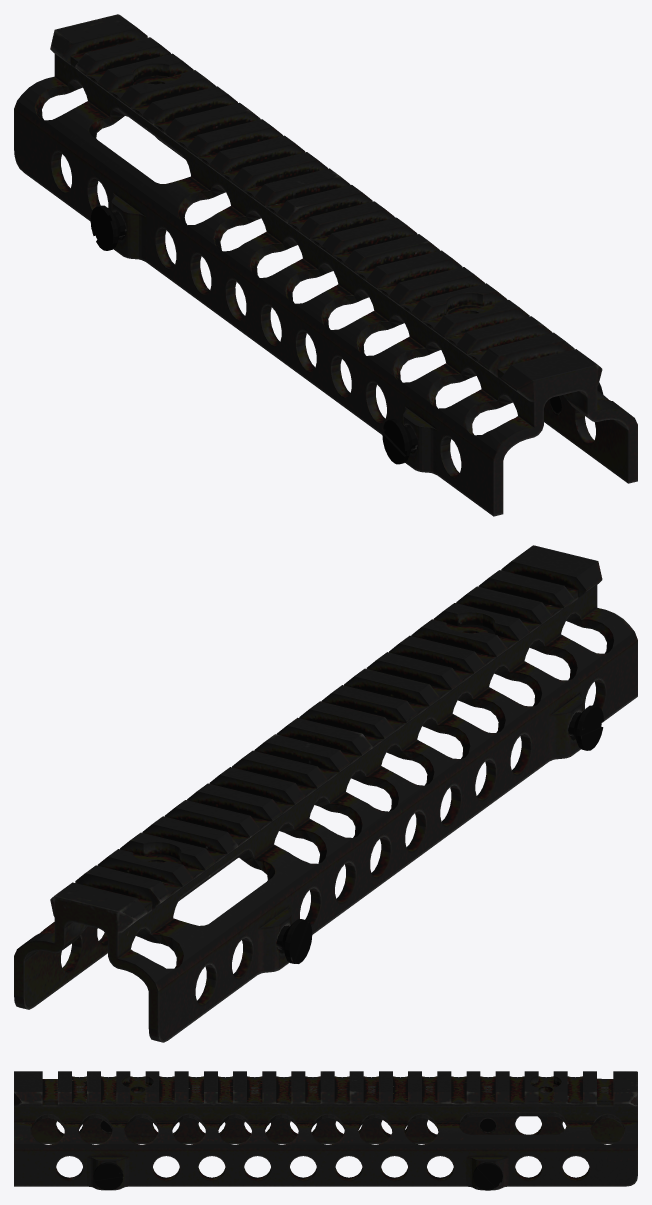
The picture shows the model from 3 angles, top to bottom: view 1: azimuth 30°, elevation 25°; view 2: azimuth 150°, elevation 25°; view 3: azimuth 270°, elevation 25°; orthographic projection. The views are drawn at different scales.
Visible parts, largest first — view 1: TW_6396aaa9a52ace83df0840ab_PZ_Import; view 2: TW_6396aaa9a52ace83df0840ab_PZ_Import; view 3: TW_6396aaa9a52ace83df0840ab_PZ_Import.
Boxes of the visible parts, x1,y1,x2,y2 form: TW_6396aaa9a52ace83df0840ab_PZ_Import: [14, 14, 637, 516]; TW_6396aaa9a52ace83df0840ab_PZ_Import: [14, 545, 637, 1042]; TW_6396aaa9a52ace83df0840ab_PZ_Import: [14, 1071, 637, 1190].
Bounding box in the file's own units: 0.0288 × 0.1205 × 0.0174.
1 material, 1 textured.
